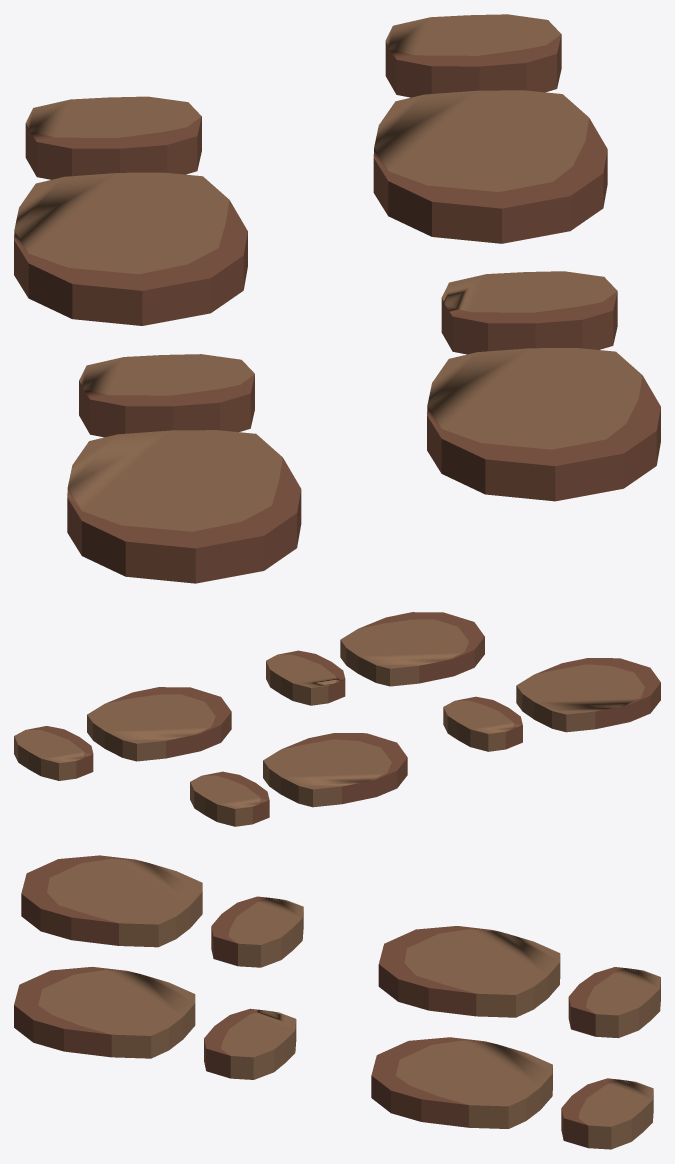
File: NPC_Footprints_003.glb
The picture shows the model from 3 angles, top to bottom: view 1: azimuth 30°, elevation 25°; view 2: azimuth 150°, elevation 25°; view 3: azimuth 270°, elevation 25°; orthographic projection. The views are drawn at different scales.
Parts seen in each view (by area): view 1: NPC_Footprints_003_mesh; view 2: NPC_Footprints_003_mesh; view 3: NPC_Footprints_003_mesh.
Boxes of the visible parts, x1,y1,x2,y2 form: NPC_Footprints_003_mesh: (14, 14, 660, 583); NPC_Footprints_003_mesh: (14, 612, 660, 826); NPC_Footprints_003_mesh: (14, 855, 660, 1149).
Size of the model in its own units: 1.42 by 0.0554 by 1.43.
1 material, 1 textured.
